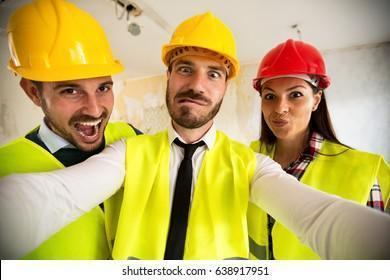helmet: (6, 0, 125, 81), (161, 11, 240, 78), (252, 39, 332, 90)
